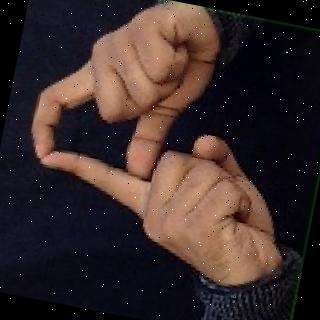D: (1, 0, 315, 292)
